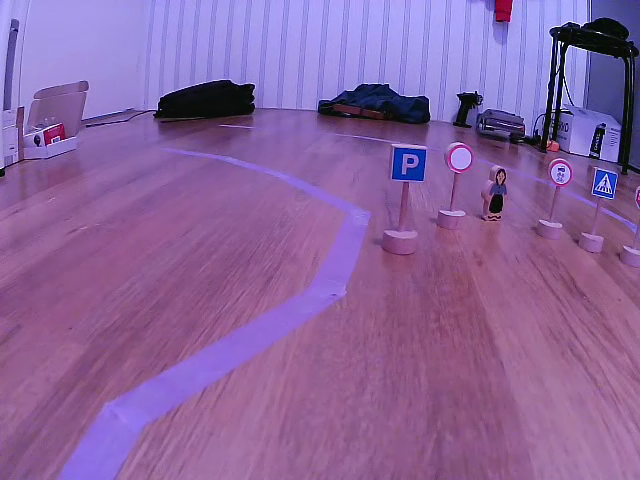fietspad: (549, 157, 572, 189)
mens: (481, 165, 510, 221)
parkeerbord: (390, 145, 427, 183)
wegdicht: (445, 140, 472, 174)
zebrapad: (591, 166, 616, 201)
